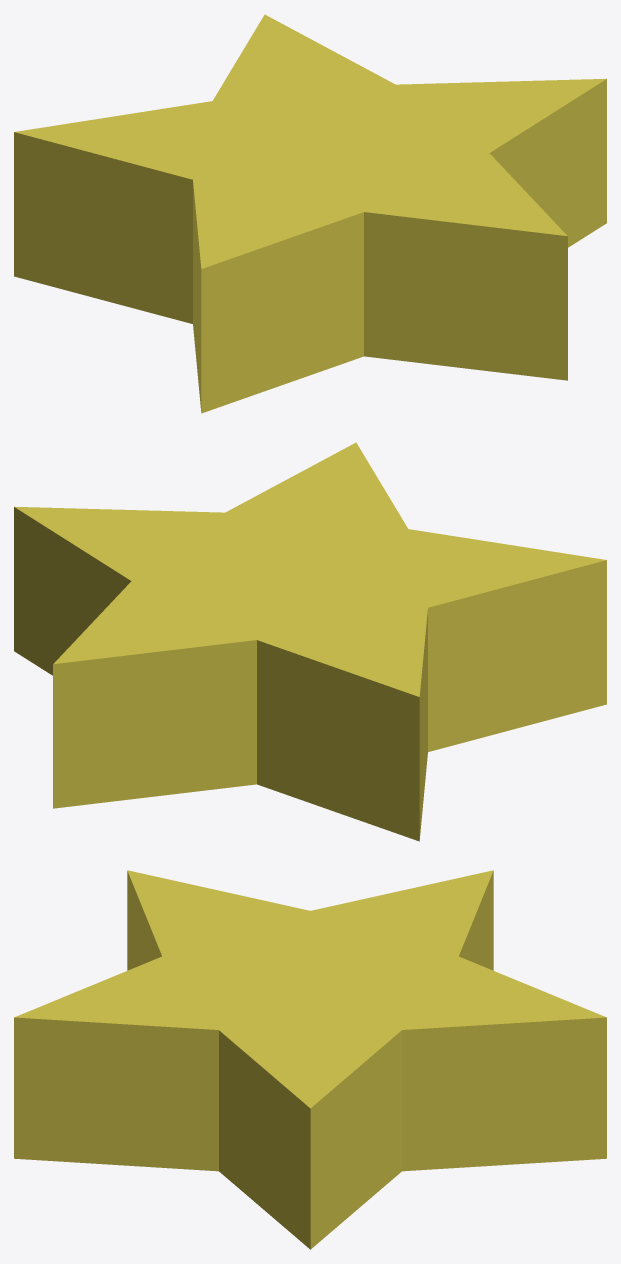
File: star.glb
3 renders of one model, top to bottom at view 1: azimuth 30°, elevation 25°; view 2: azimuth 150°, elevation 25°; view 3: azimuth 270°, elevation 25°, orthographic. The views are drawn at different scales.
Parts seen in each view (by area): view 1: Mesh_Mesh_head_geo.001_lambert2SG.001; view 2: Mesh_Mesh_head_geo.001_lambert2SG.001; view 3: Mesh_Mesh_head_geo.001_lambert2SG.001.
Part boxes in pixels (x1,y1,x2,y2): Mesh_Mesh_head_geo.001_lambert2SG.001: (14,14,606,413); Mesh_Mesh_head_geo.001_lambert2SG.001: (14,442,606,841); Mesh_Mesh_head_geo.001_lambert2SG.001: (14,870,606,1249).
Bounding box in the file's own units: 36.18 × 10 × 38.04.
